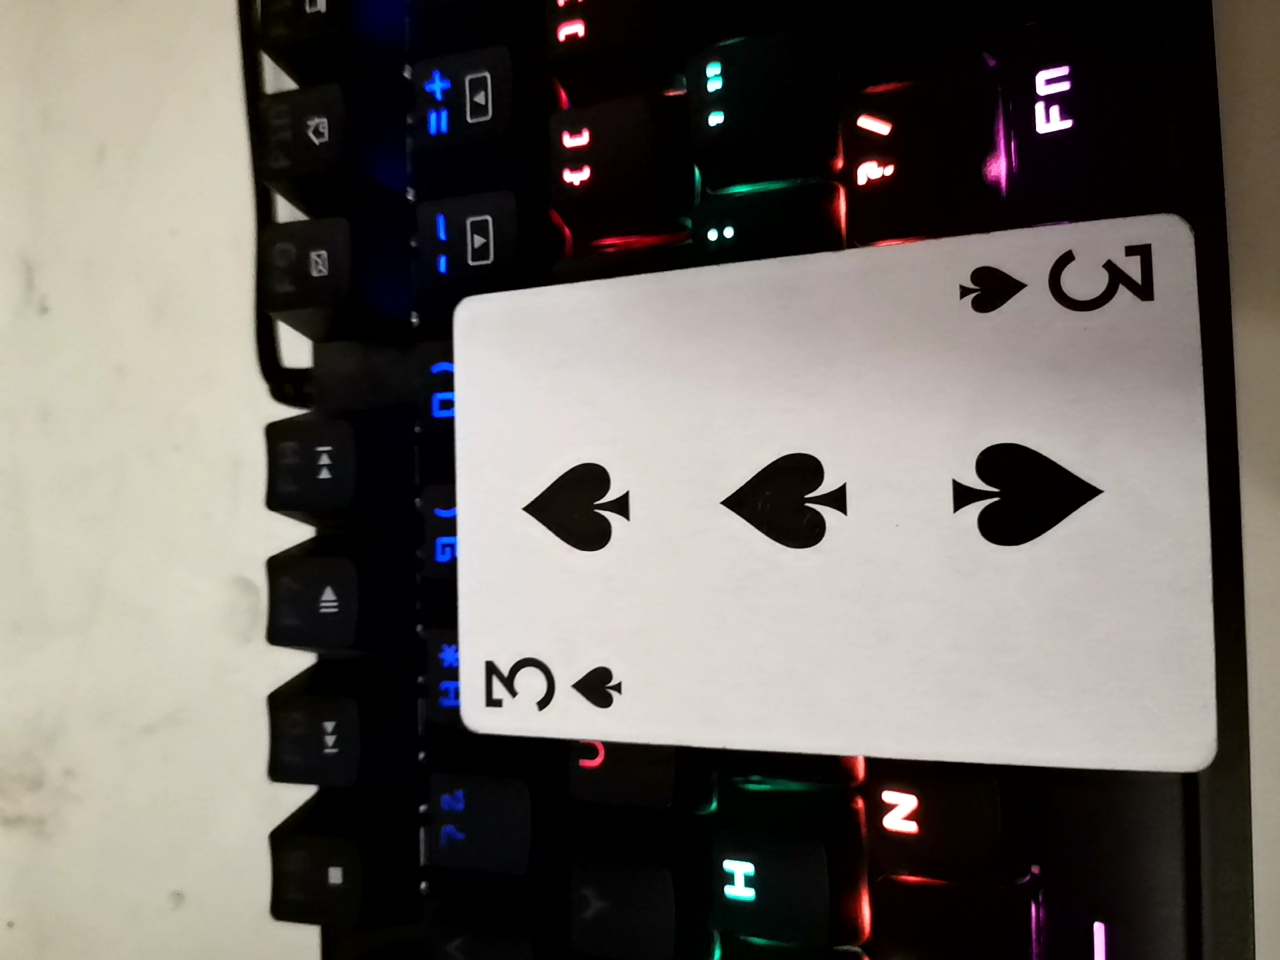ht 3: (396, 204, 1208, 806)
